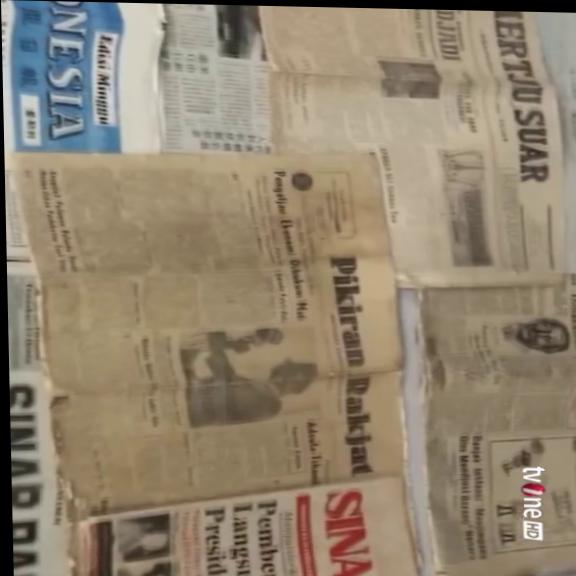Kertas: (18, 150, 409, 556), (242, 8, 576, 286), (406, 282, 576, 576)
